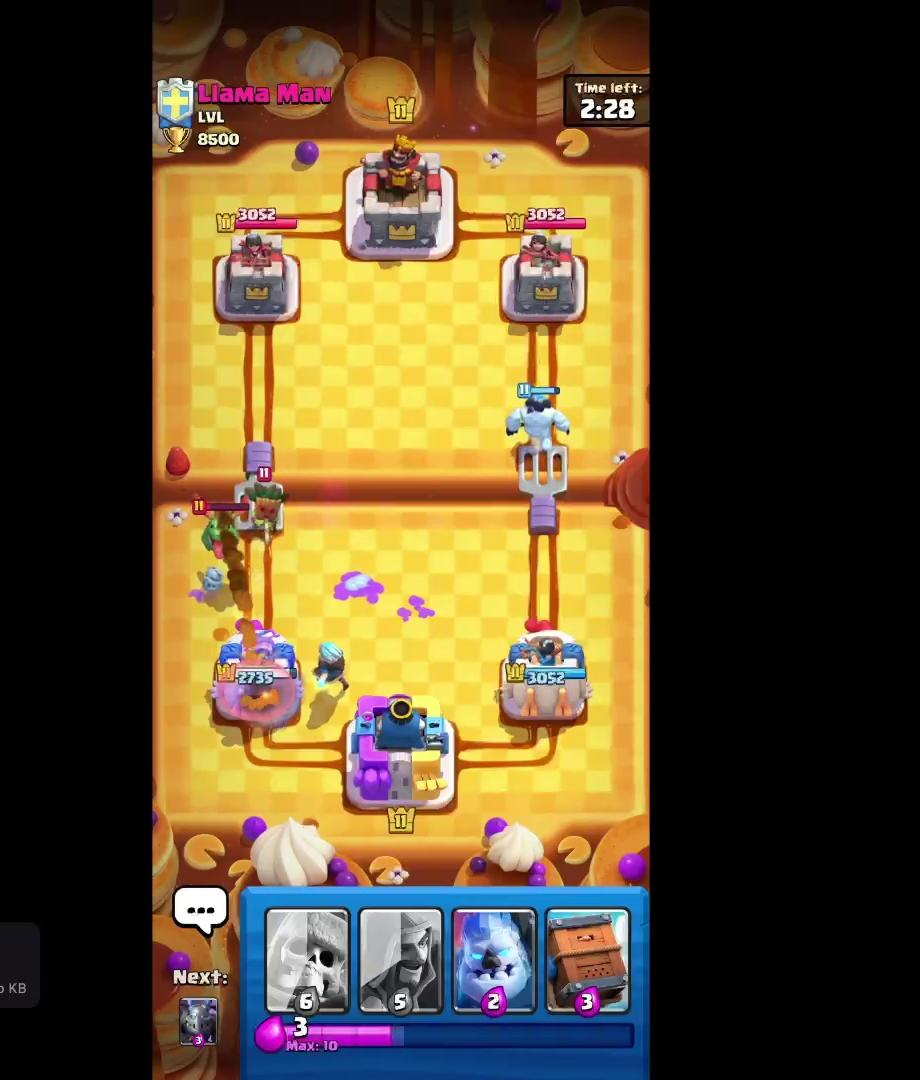Baby Dragon: (189, 495, 252, 568)
Dart Goblin: (246, 464, 295, 531)
